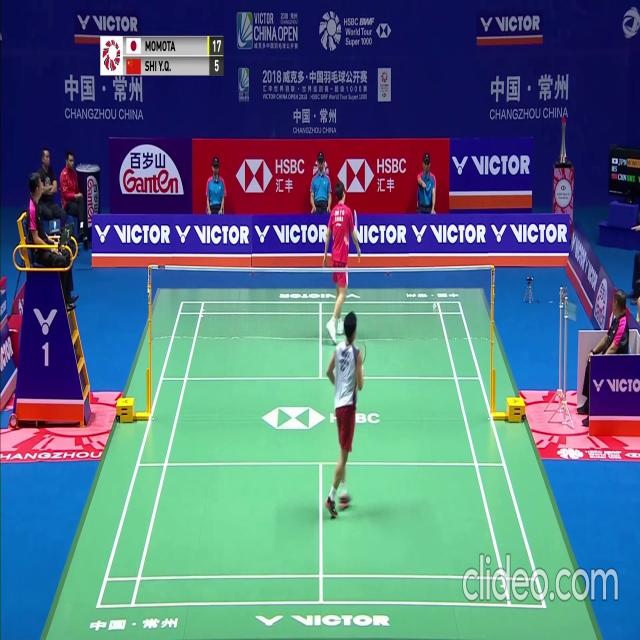Shuttlecock: (433, 301, 437, 309)
